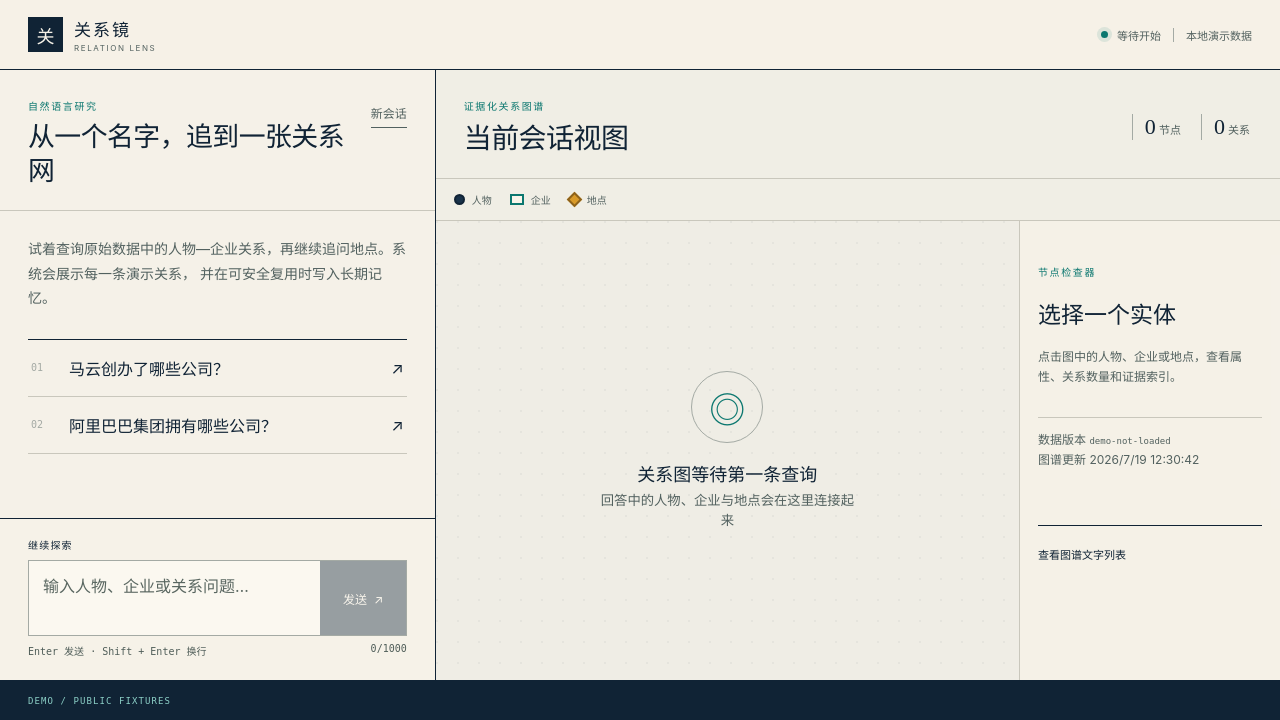
Scenario: App › shows a recoverable error and retries the same query
Click the button "01 马云创办了哪些公司？ ↗": x=217, y=368 [28,340,407,397]
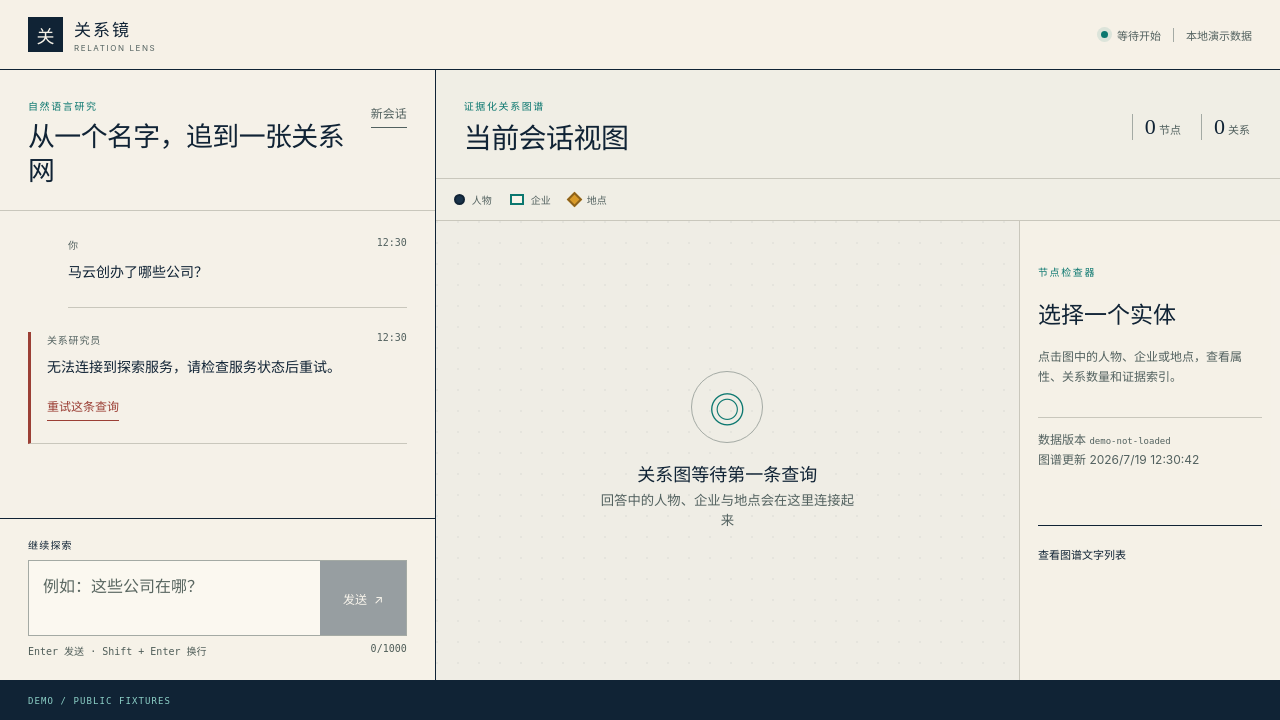
Expected: the text "无法连接到探索服务，请检查服务状态后重试。" is shown, [47,358,341,375]
Click the button "重试这条查询": x=83, y=406 [47,391,119,421]
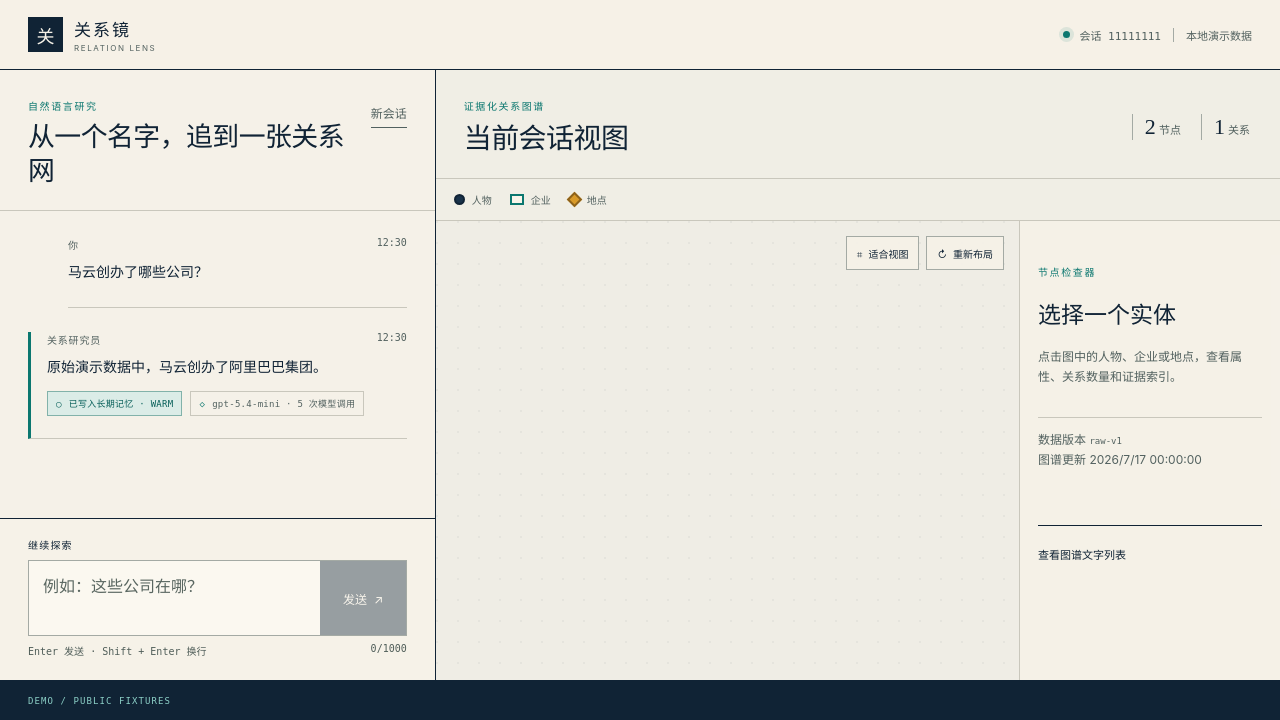
Expected: the text "原始演示数据中，马云创办了阿里巴巴集团。" is shown, [47,358,327,375]
